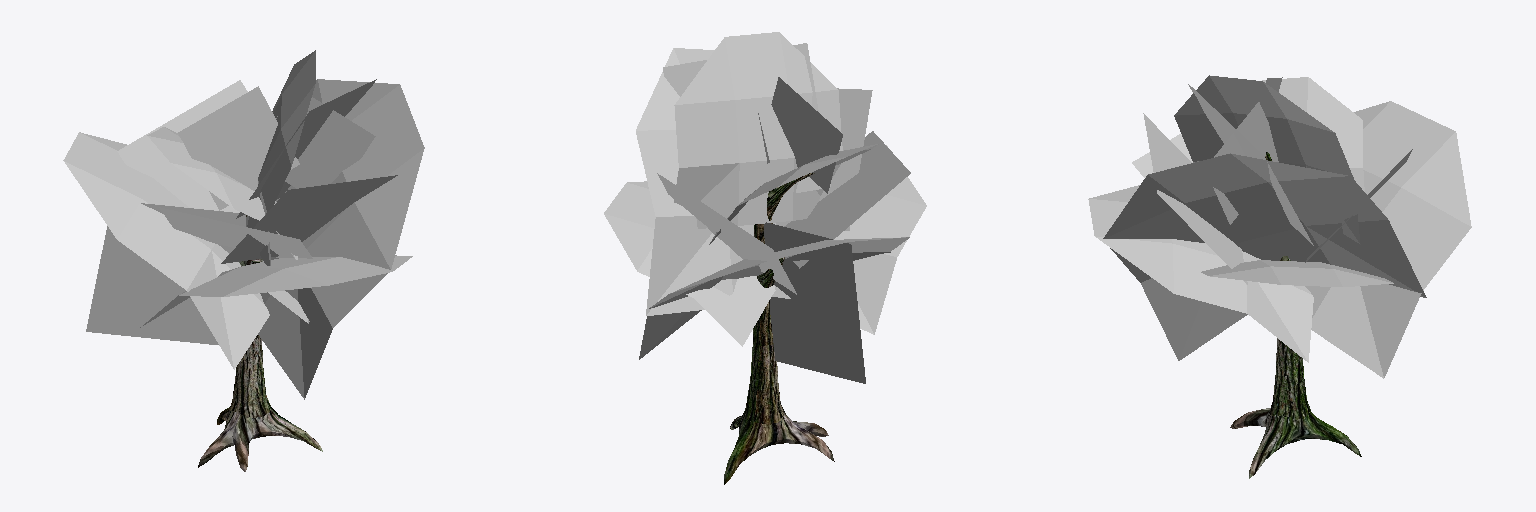
3 views of the same model, side by side, from view 1: azimuth 30°, elevation 25°; view 2: azimuth 150°, elevation 25°; view 3: azimuth 270°, elevation 25° (orthographic).
Parts seen in each view (by area): view 1: Tree; view 2: Tree; view 3: Tree.
Part boxes in pixels (x1,y1,x2,y2): Tree: (63,50,424,471); Tree: (604,32,926,484); Tree: (1088,75,1471,478).
Size of the model in its own units: 4.49 by 6.1 by 5.3.
3 materials, 1 textured.